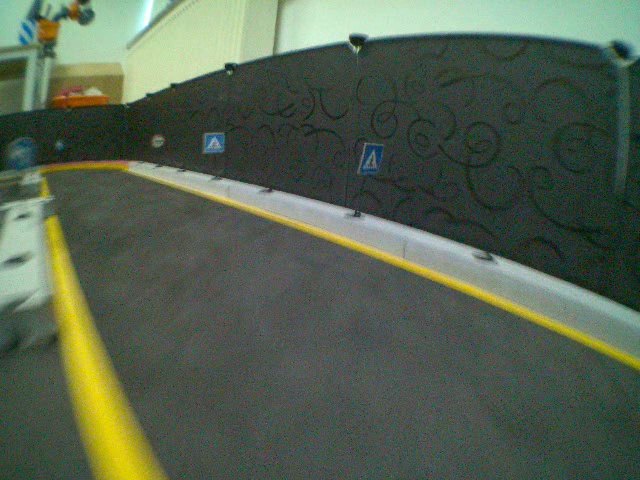crossing: (356, 142, 384, 175), (202, 131, 226, 155)
